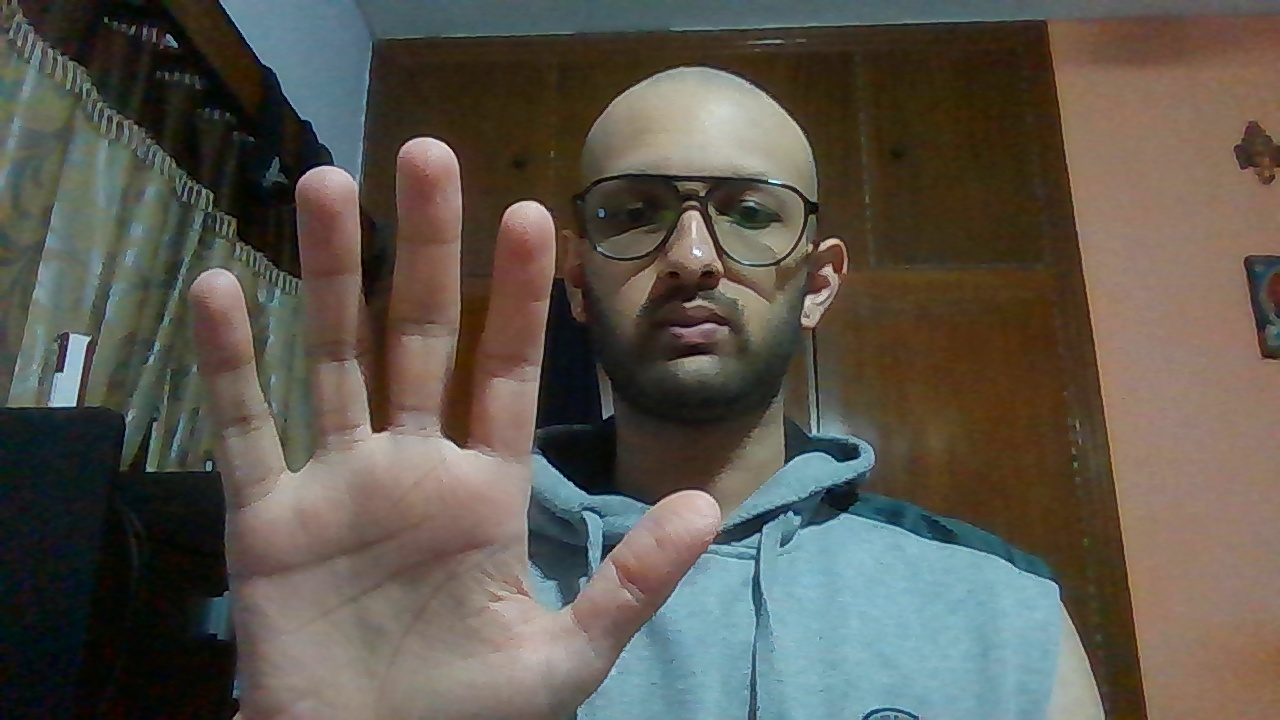Hello: (186, 136, 726, 720)
